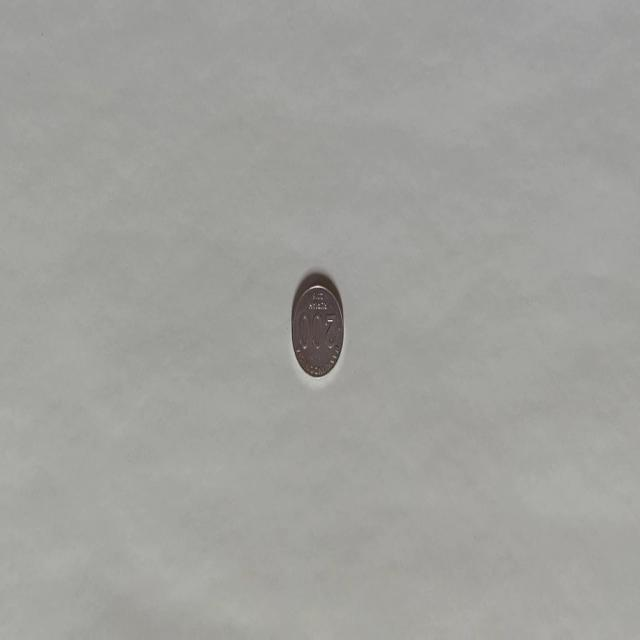dua ratus rupiah: (290, 280, 344, 379)
